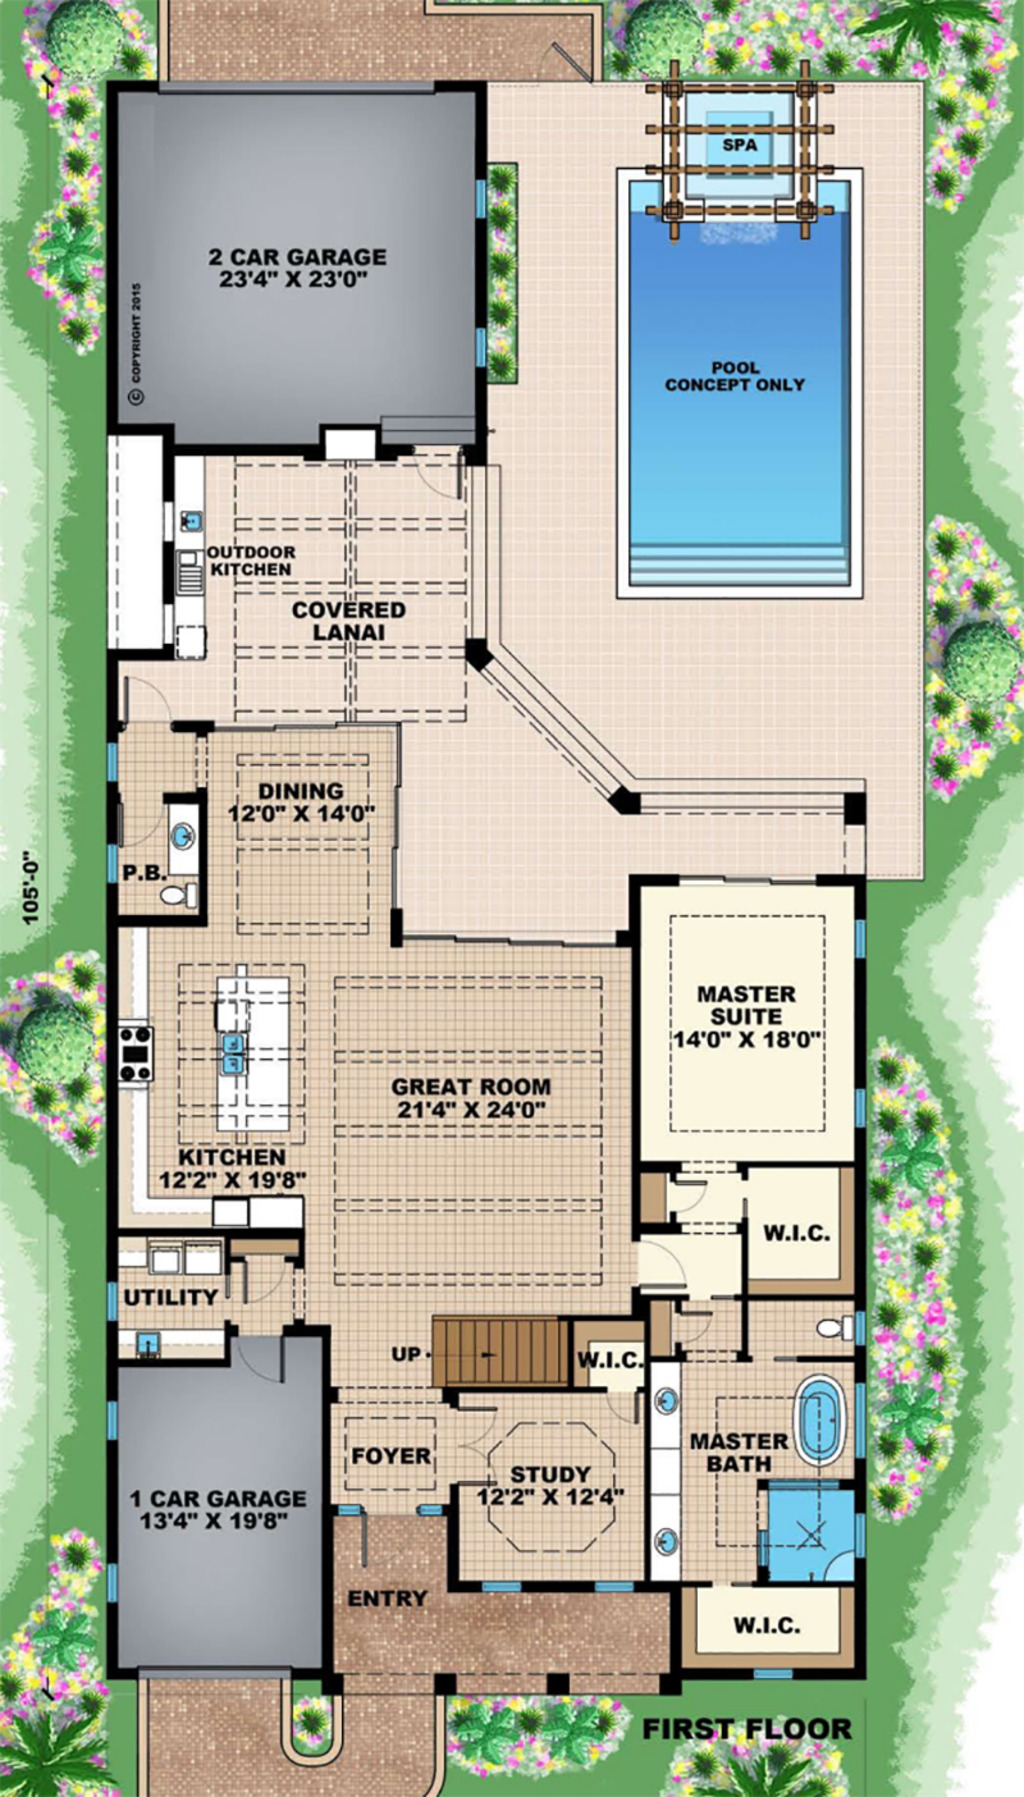door: (445, 1398, 497, 1496), (410, 450, 473, 507), (236, 1323, 290, 1388), (118, 674, 174, 726), (632, 1238, 686, 1290)
large_sink: (811, 1309, 853, 1347)
small_sink: (645, 1355, 688, 1453), (642, 1490, 682, 1582)
stairs: (392, 1305, 577, 1398)
tub: (793, 1382, 853, 1474)
